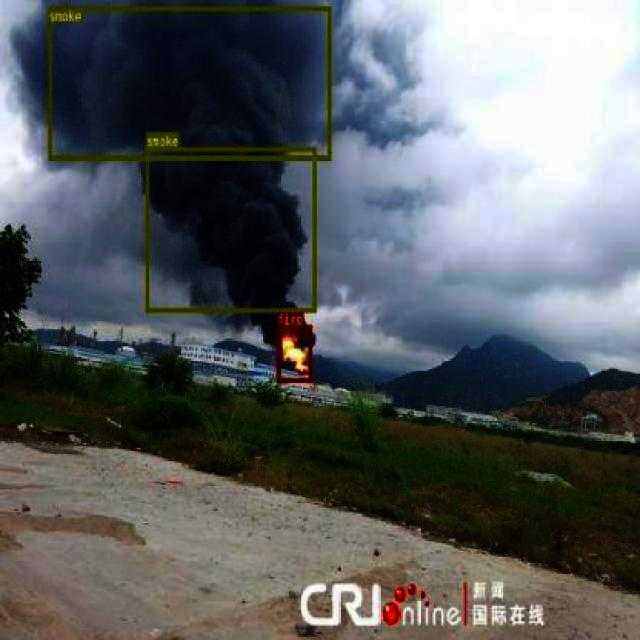fire: (276, 324, 312, 382)
smoke: (47, 5, 330, 160), (144, 147, 316, 310)
